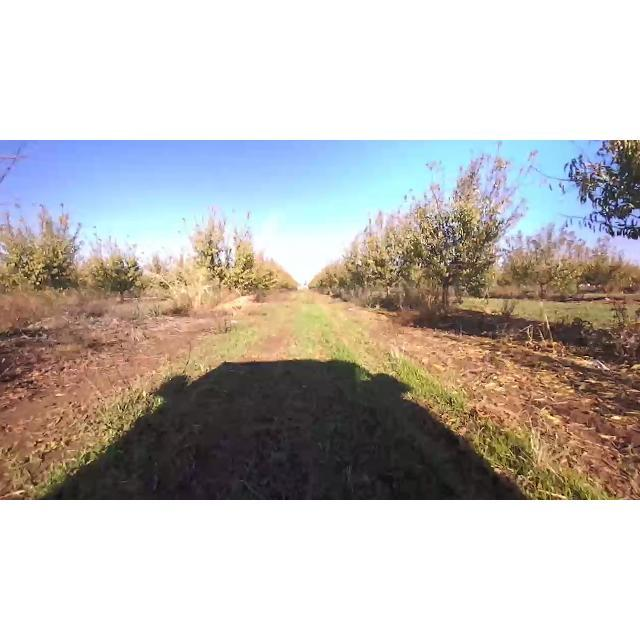direk: (396, 145, 540, 331), (3, 186, 101, 306), (173, 191, 259, 303), (353, 201, 422, 307), (92, 234, 148, 308)
